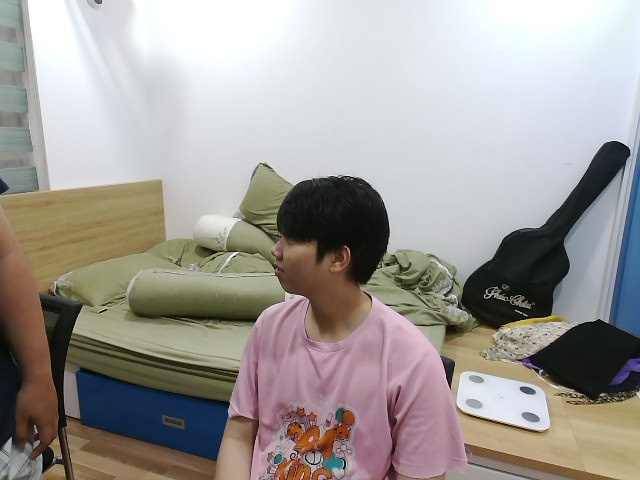face: (269, 176, 389, 296)
